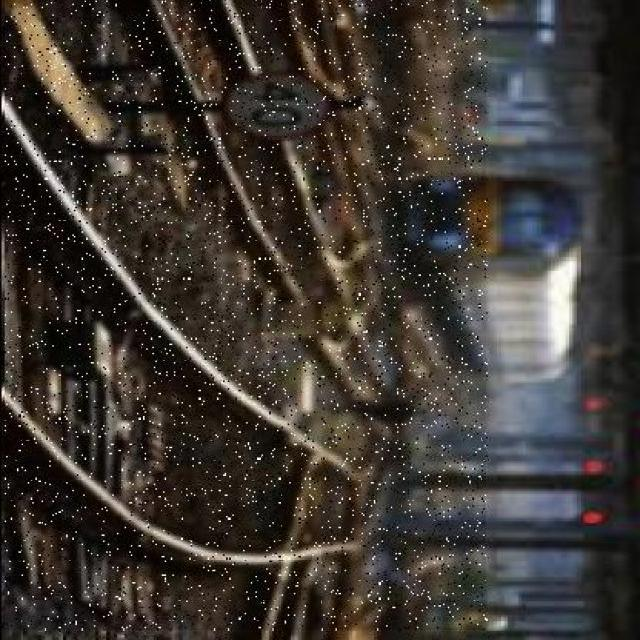rail: (4, 2, 487, 631)
